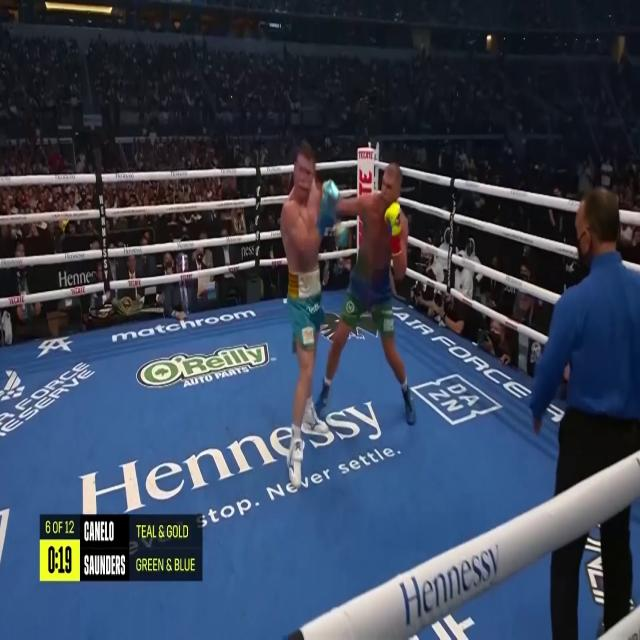boxer_1: (362, 163, 403, 269)
boxer_2: (281, 143, 322, 274)
gloves_1: (384, 200, 402, 258)
gloves_2: (315, 181, 338, 237)
